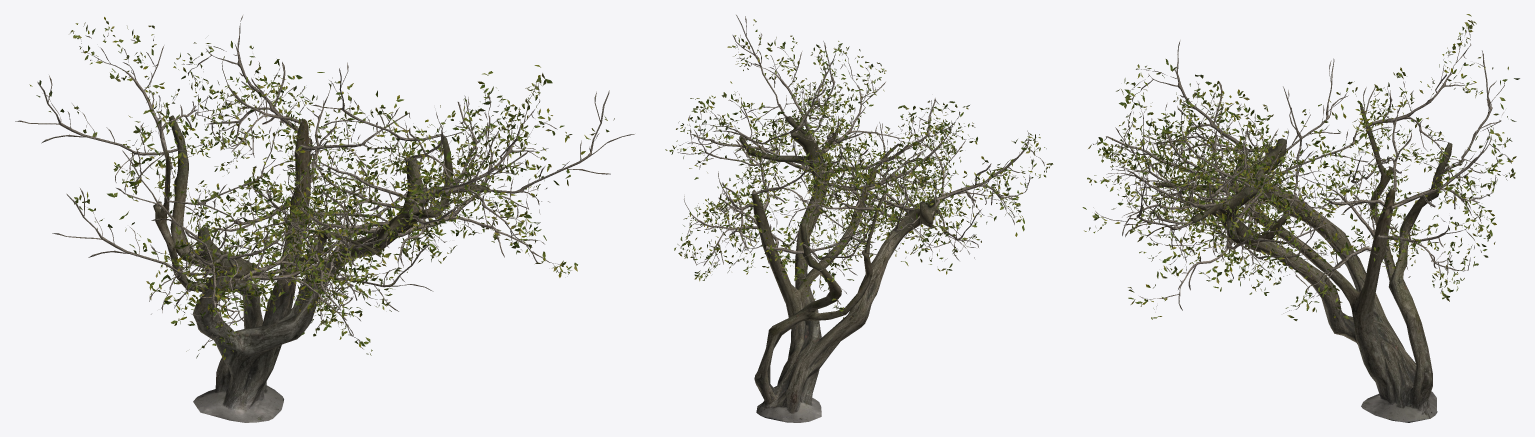
File: island_tree.glb
3 renders of one model, left to right at view 1: azimuth 30°, elevation 25°; view 2: azimuth 150°, elevation 25°; view 3: azimuth 270°, elevation 25°, orthographic. The views are drawn at different scales.
Visible parts, largest first — view 1: island_tree_02_LOD0; view 2: island_tree_02_LOD0; view 3: island_tree_02_LOD0.
Boxes of the visible parts, x1,y1,x2,y2 form: island_tree_02_LOD0: (15, 15, 634, 422); island_tree_02_LOD0: (665, 15, 1053, 422); island_tree_02_LOD0: (1082, 14, 1519, 422).
Bounding box in the file's own units: 4.21 × 3.39 × 3.99.
Materials: 3 (3 with a texture image).
